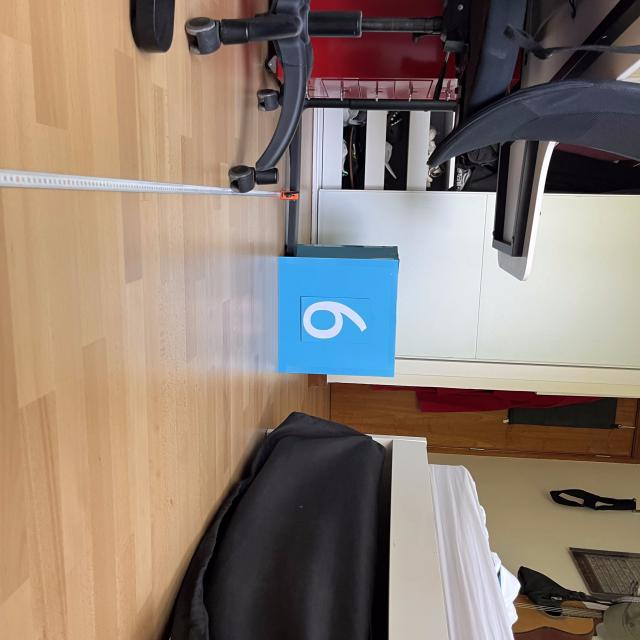box: (272, 242, 402, 380)
